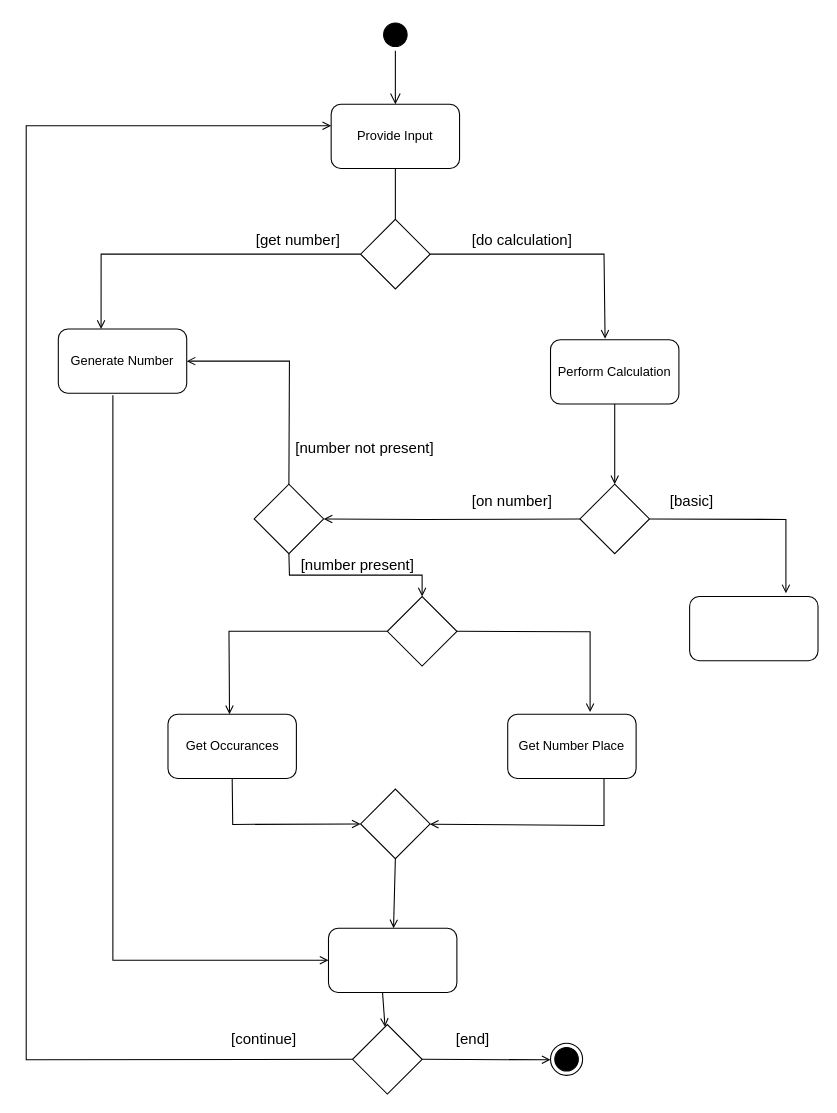
Image size: 837x1113. Some labels were removed from this diagram. The centre of each missing label's shape, as x and y in pixels:
"Basic Calculation" goes at point 753,628.
"Display Results" goes at point 392,959.
